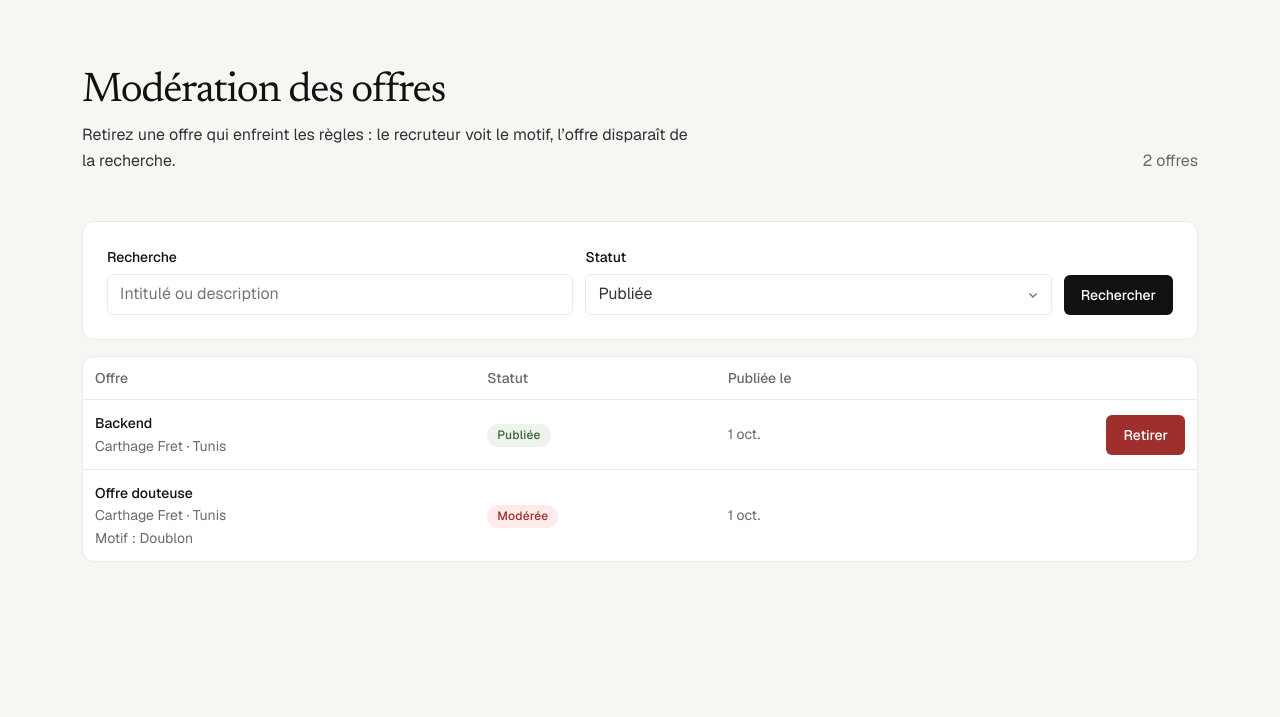
Scenario: admin job moderation › shows a server field error on the reason and lets the admin cancel
Step 1. Click the button with aria-label "Retirer l’offre Backend" → coordinates (1146, 435), box [1106, 415, 1185, 455]
(page scrolled)
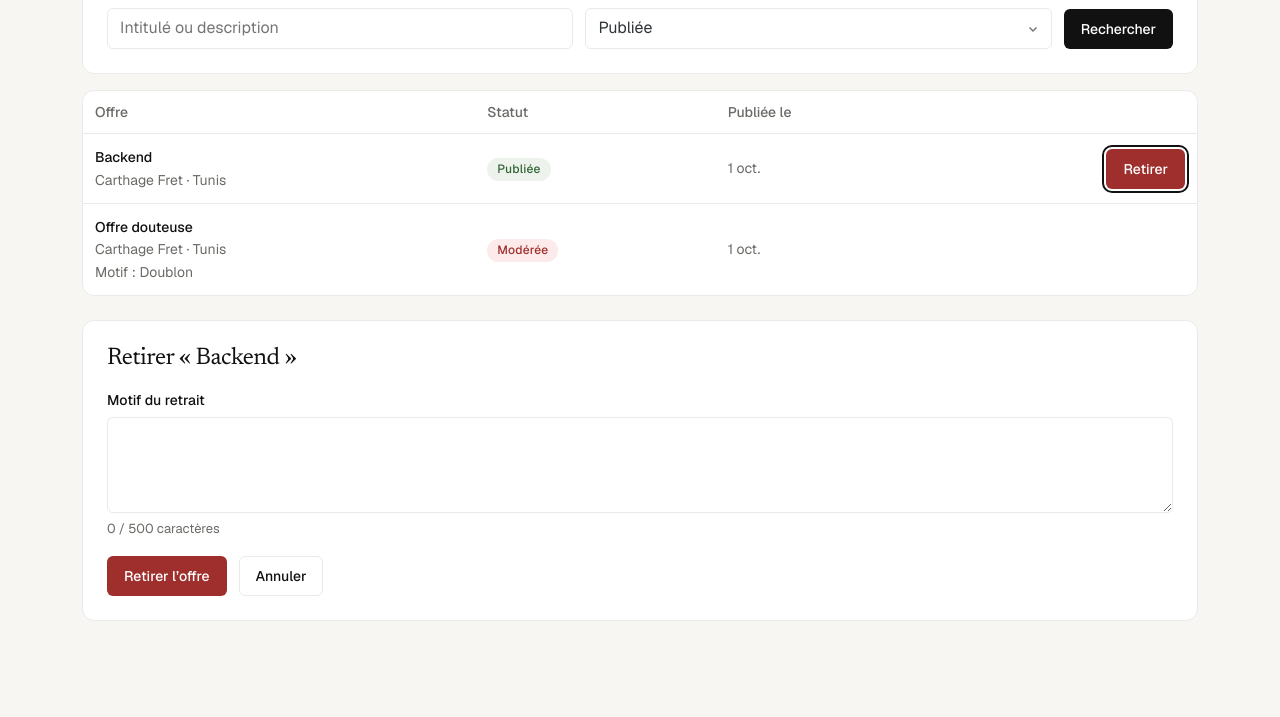
Step 2. Type "x" into the text box labelled "Motif du retrait" → coordinates (640, 465), box [107, 417, 1173, 513]
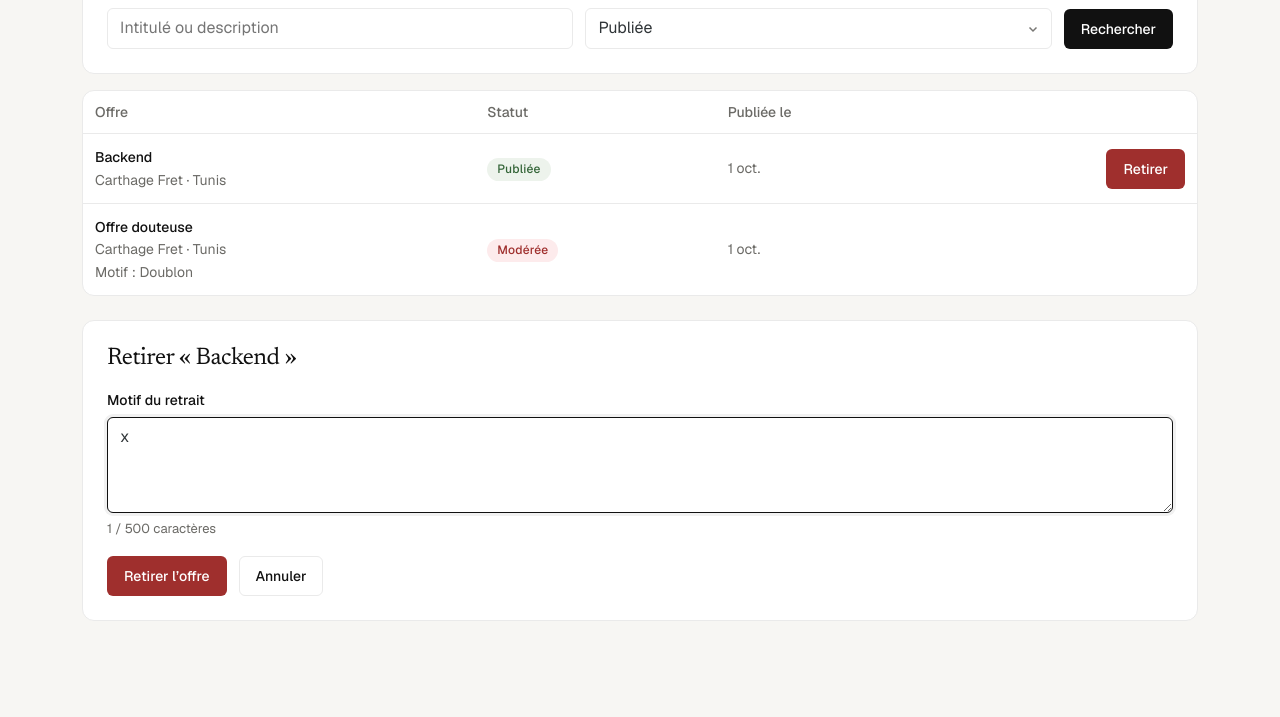
Step 3. Click the button "Retirer l’offre" → coordinates (167, 576), box [107, 556, 226, 596]
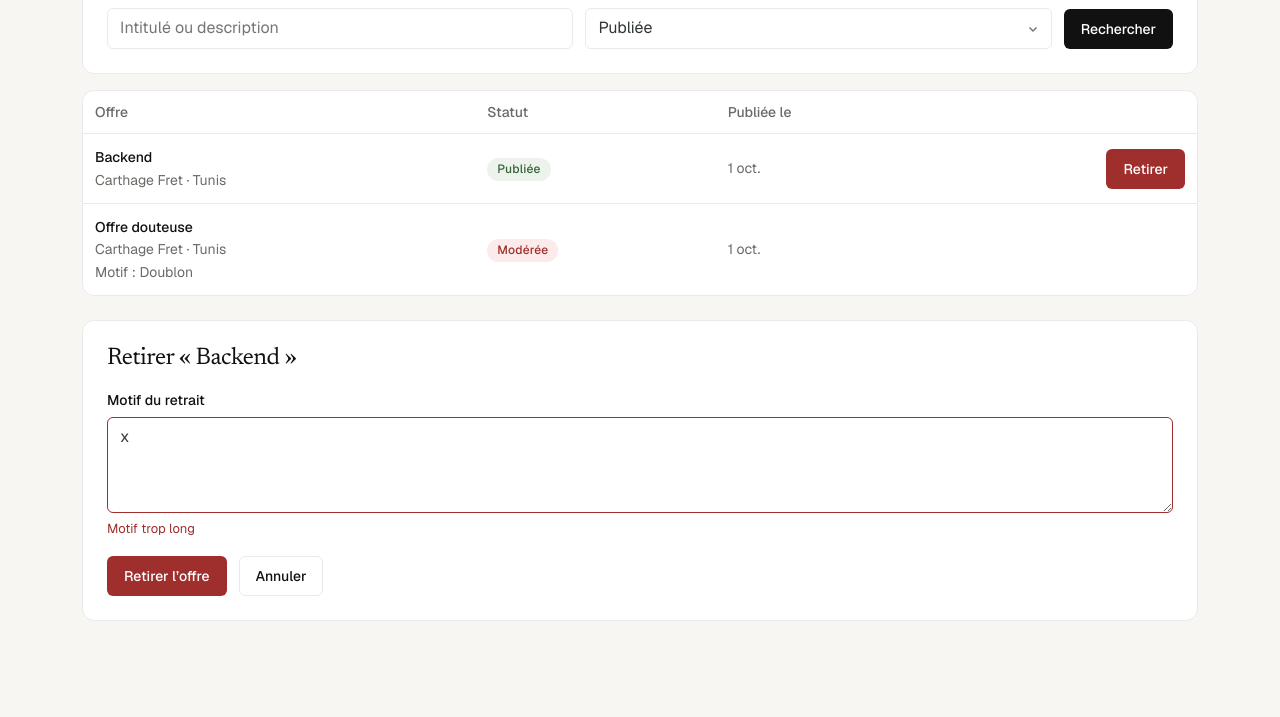
expect the text "Motif trop long" is shown: met, box [107, 520, 195, 537]
Step 4. Click the button "Annuler" → coordinates (281, 576), box [238, 556, 324, 596]
(page scrolled)
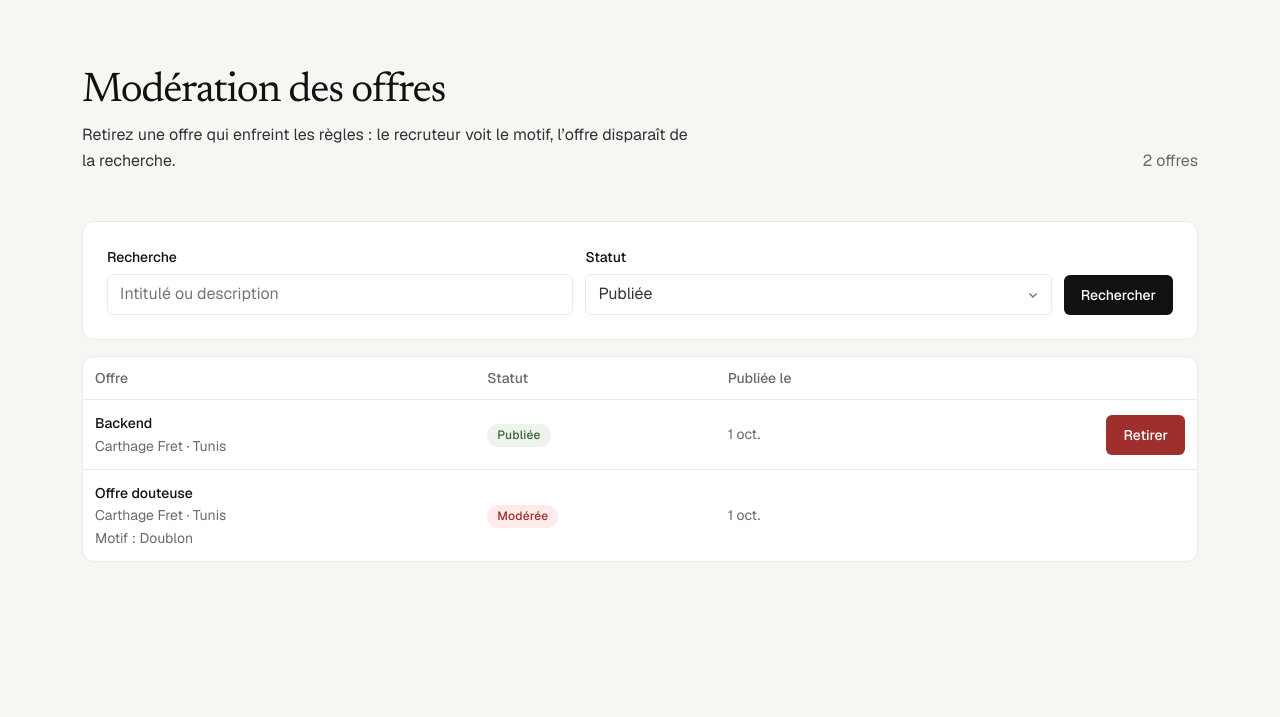
expect the label labelled "Motif du retrait" is gone: met
